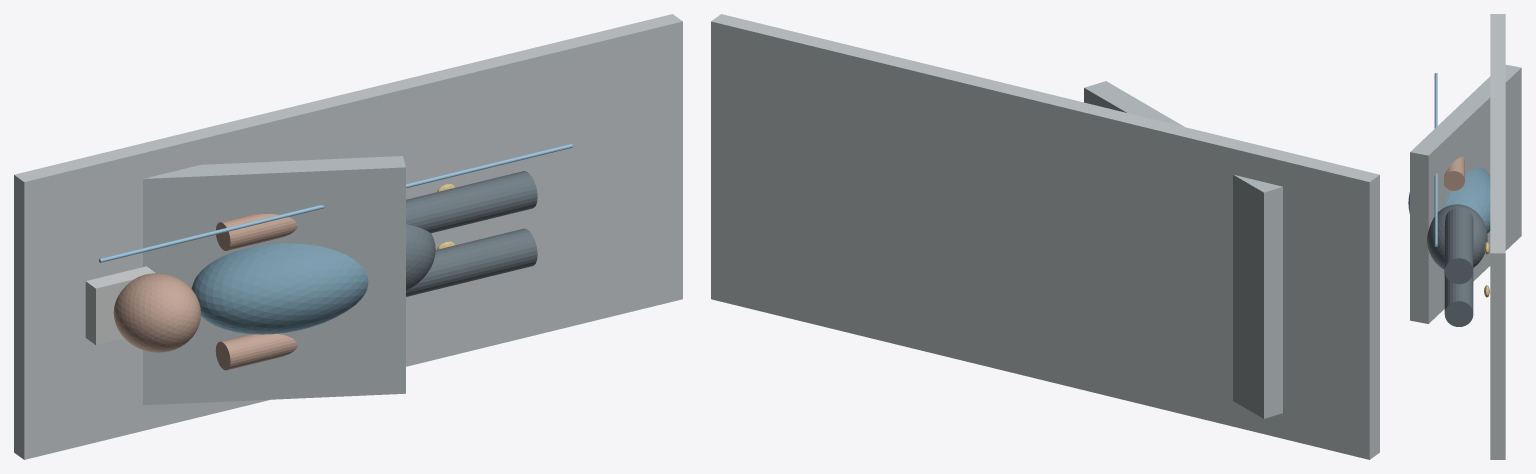
The model's file is semi-seated-high.glb.
3 renders of one model, left to right at view 1: azimuth 30°, elevation 25°; view 2: azimuth 150°, elevation 25°; view 3: azimuth 270°, elevation 25°, orthographic. The views are drawn at different scales.
Visible parts, largest first — view 1: reference_surface, inclined_support_proxy, torso, head, right_leg, left_leg, head_support_proxy, left_arm, alignment_axis_proxy, right_arm, pelvis; view 2: reference_surface, inclined_support_proxy; view 3: inclined_support_proxy, reference_surface, right_leg, torso, pelvis, left_leg, right_arm, alignment_axis_proxy.
Boxes of the visible parts, x1=… form: reference_surface: x1=14, y1=14, x2=682, y2=459; inclined_support_proxy: x1=143, y1=156, x2=405, y2=405; torso: x1=191, y1=243, x2=368, y2=334; head: x1=113, y1=273, x2=200, y2=352; right_leg: x1=406, y1=171, x2=537, y2=233; left_leg: x1=406, y1=228, x2=537, y2=296; head_support_proxy: x1=85, y1=266, x2=155, y2=344; left_arm: x1=215, y1=333, x2=297, y2=370; alignment_axis_proxy: x1=99, y1=144, x2=572, y2=262; right_arm: x1=216, y1=214, x2=297, y2=250; pelvis: x1=406, y1=224, x2=435, y2=290; reference_surface: x1=711, y1=14, x2=1379, y2=459; inclined_support_proxy: x1=1084, y1=81, x2=1282, y2=418; inclined_support_proxy: x1=1410, y1=64, x2=1521, y2=323; reference_surface: x1=1490, y1=14, x2=1505, y2=459; right_leg: x1=1444, y1=207, x2=1473, y2=284; torso: x1=1408, y1=167, x2=1490, y2=233; pelvis: x1=1427, y1=204, x2=1487, y2=269; left_leg: x1=1444, y1=272, x2=1473, y2=326; right_arm: x1=1444, y1=157, x2=1464, y2=190; alignment_axis_proxy: x1=1434, y1=73, x2=1437, y2=246.
Bounding box in the file's own units: 6.7 × 2.7 × 1.34.
